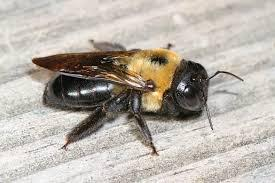Xylocopa: (25, 26, 235, 149)
